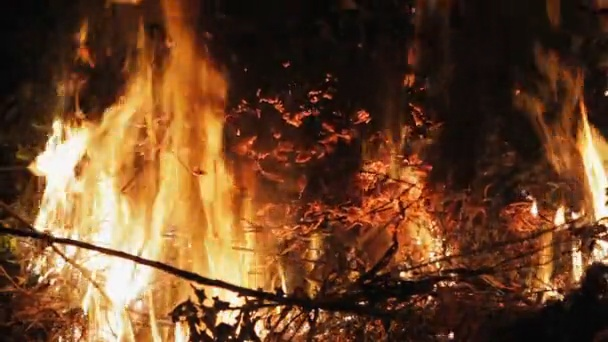fire: (23, 27, 254, 342), (574, 106, 608, 266), (381, 165, 435, 262), (573, 247, 582, 279), (554, 205, 565, 224), (531, 198, 538, 217)
